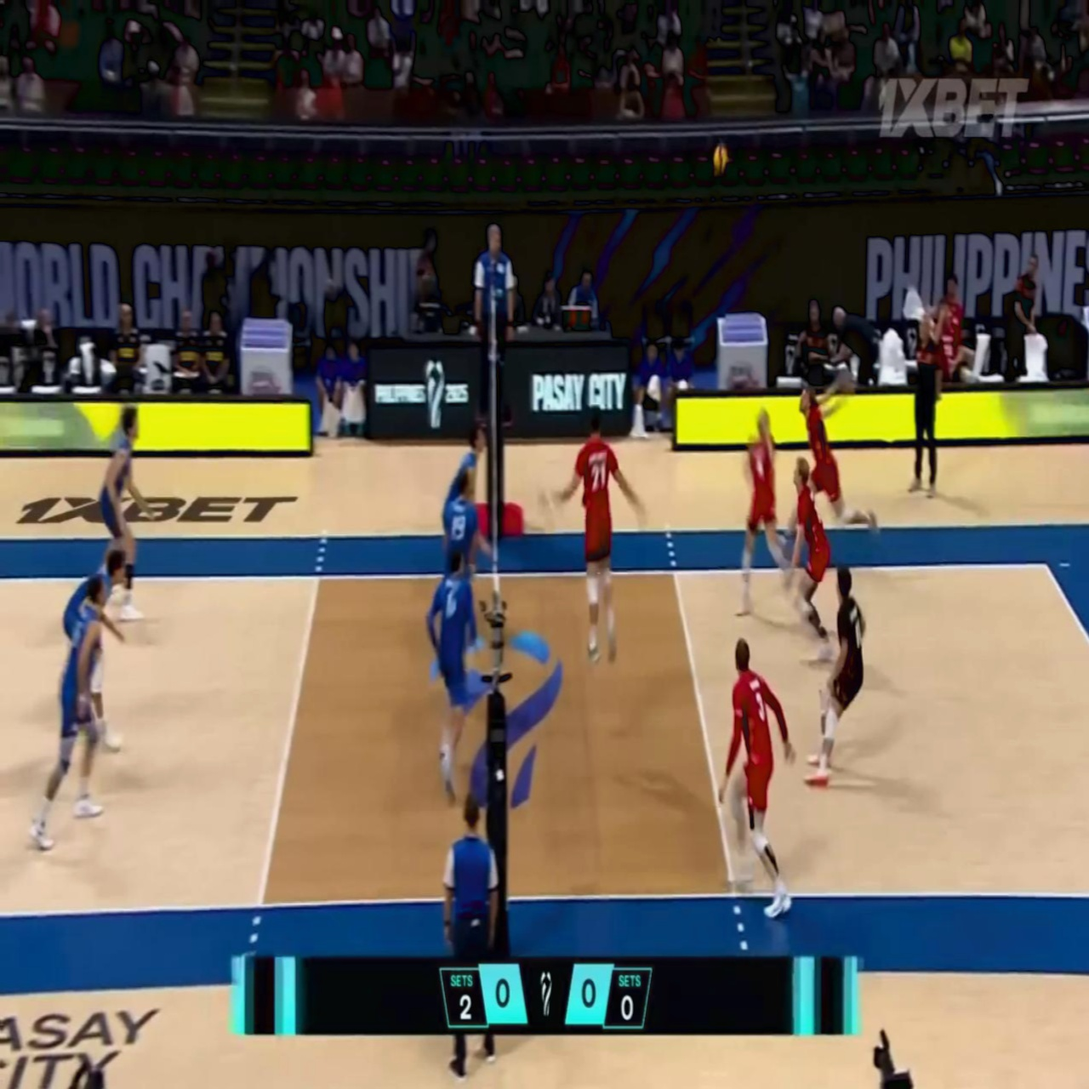ball: (712, 144, 727, 171)
